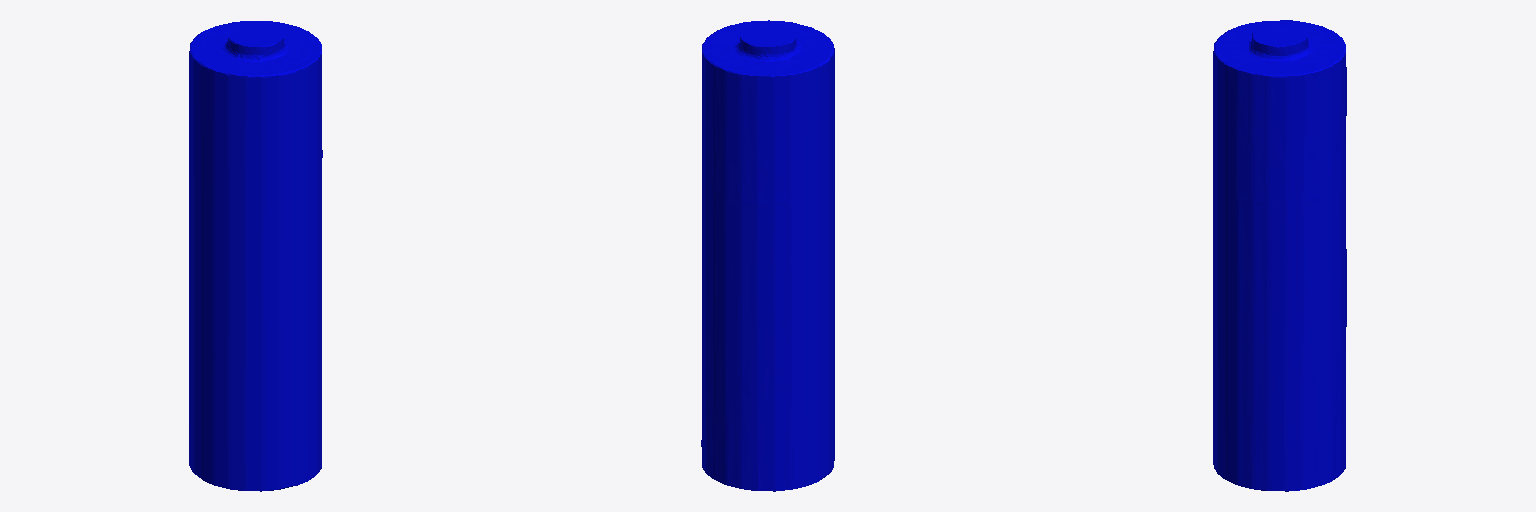
The robot description file, URDF, robot "blob000":
<robot name="blob000">
  <link name="random_obj_000">
    <contact>
      <lateral_friction value="1.0"/>
      <rolling_friction value="0.0"/>
      <inertia_scaling value="3.0"/>
      <contact_cfm value="0.0"/>
      <contact_erp value="1.0"/>
    </contact>
    <inertial>
      <origin rpy="0 0 0" xyz="0 0 0"/>
      <mass value="0.1"/>
      <inertia ixx="1" ixy="0" ixz="0" iyy="1" iyz="0" izz="0"/>
    </inertial>
    <visual>
      <origin rpy="0 0 0" xyz="0 0 0"/>
      <geometry>
        <mesh filename="battery.obj"/>
      </geometry>
      <material name="blockmat">
        <color rgba="0.04 0.07 0.91 1"/>
      </material>
    </visual>
    <collision>
      <origin rpy="0 0 0" xyz="0 0 0"/>
      <geometry>
        <mesh filename="battery.obj"/>
      </geometry>
    </collision>
  </link>
</robot>

--- Facts derived from the render (not from the file) ---
Views: 3 orthographic renders of the robot side by side, from view 1: azimuth 30°, elevation 25°; view 2: azimuth 150°, elevation 25°; view 3: azimuth 270°, elevation 25°.
Robot: blob000 — 1 links, 0 joints (none); root link random_obj_000; default pose: every joint at zero.
Visible links, largest first — view 1: random_obj_000; view 2: random_obj_000; view 3: random_obj_000.
Boxes of the visible links, x1,y1,x2,y2 form: random_obj_000: [189, 21, 322, 491]; random_obj_000: [701, 20, 834, 491]; random_obj_000: [1213, 20, 1346, 491].
Size in the robot's own frame: 0.5482 by 0.5482 by 1.95 metres.
1 mesh visuals loaded from 1 distinct referenced files (1 OBJ).
